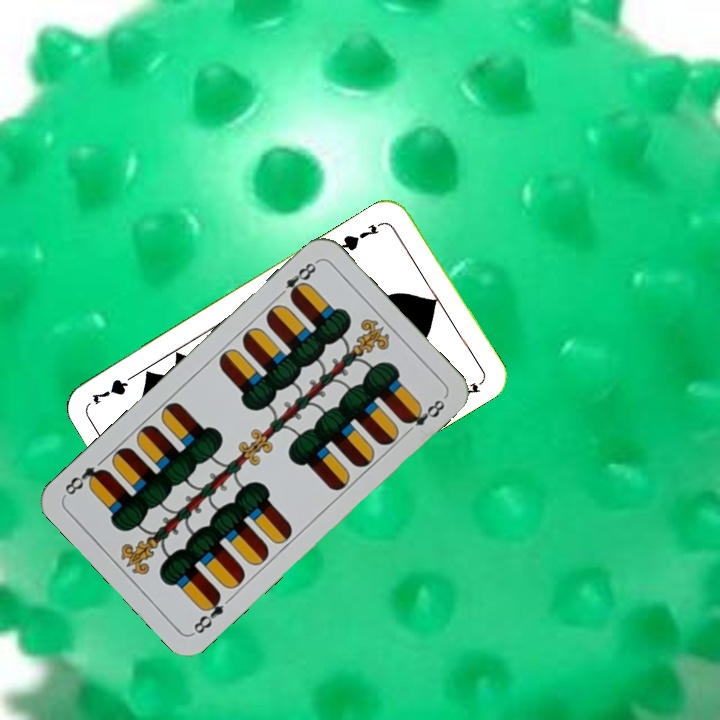E8: (272, 257, 320, 302), (189, 588, 227, 637)
G7: (334, 217, 388, 254)
